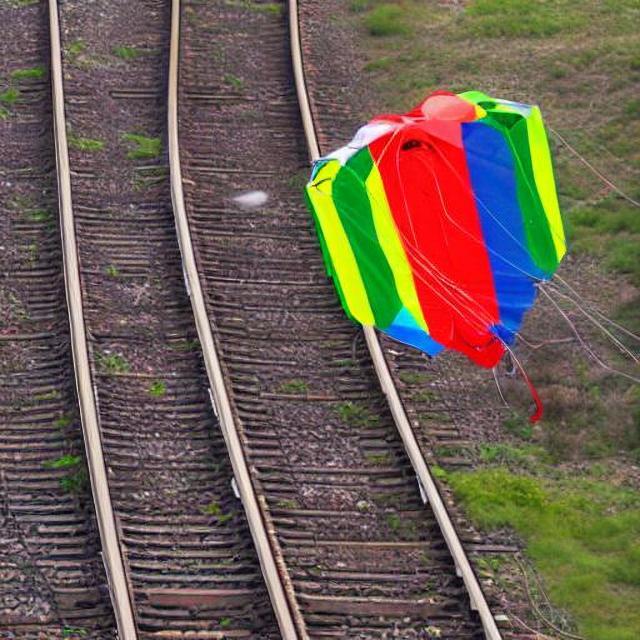balloon: (307, 91, 572, 378)
